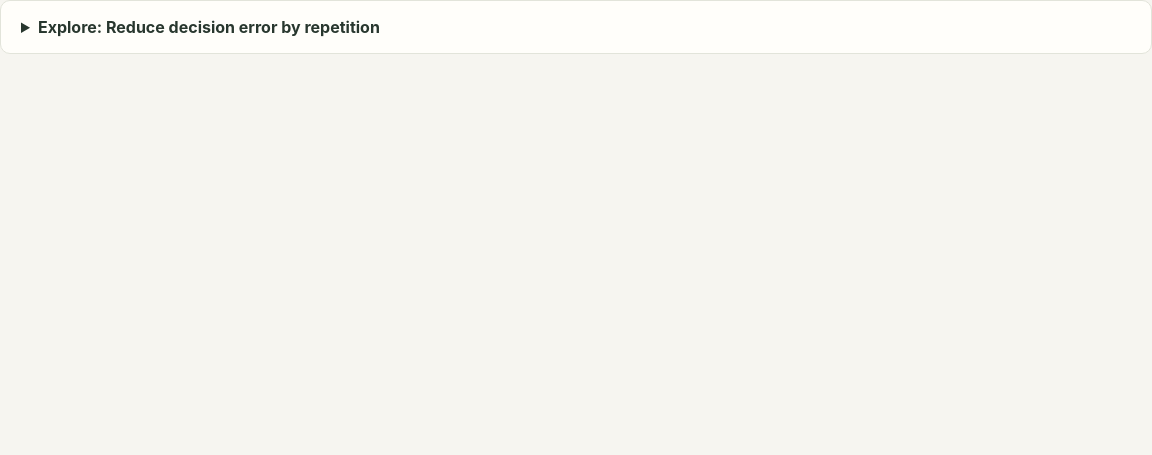
Test case: evaluates the independence-based majority and one-sided amplification guarantees
Later steps or results of the test are not shown.
Click the heading "Explore: Reduce decision error by repetition" at (209, 27), box [38,17,380,37]
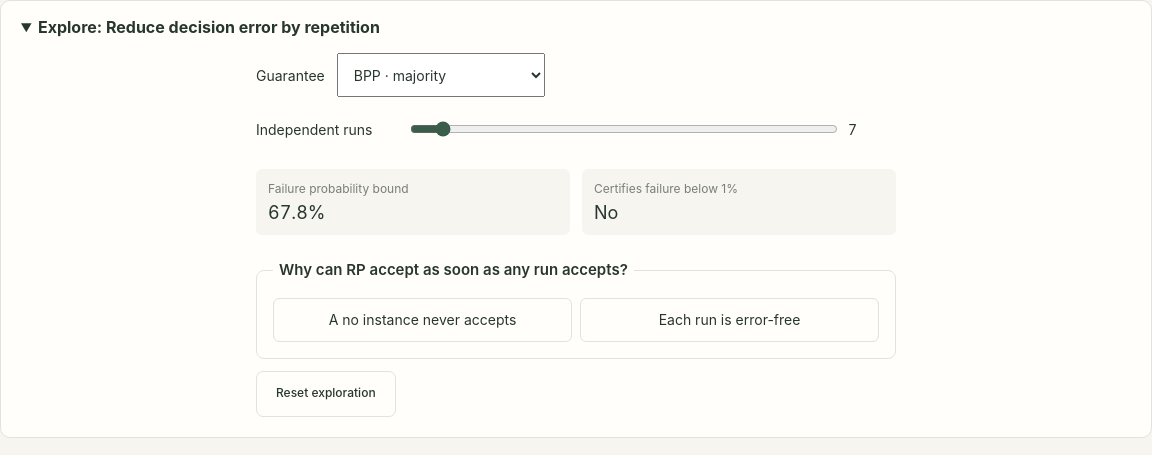
Set the slider labelled "Independent runs" to "83" at (756, 129), box [410,107,838,151]
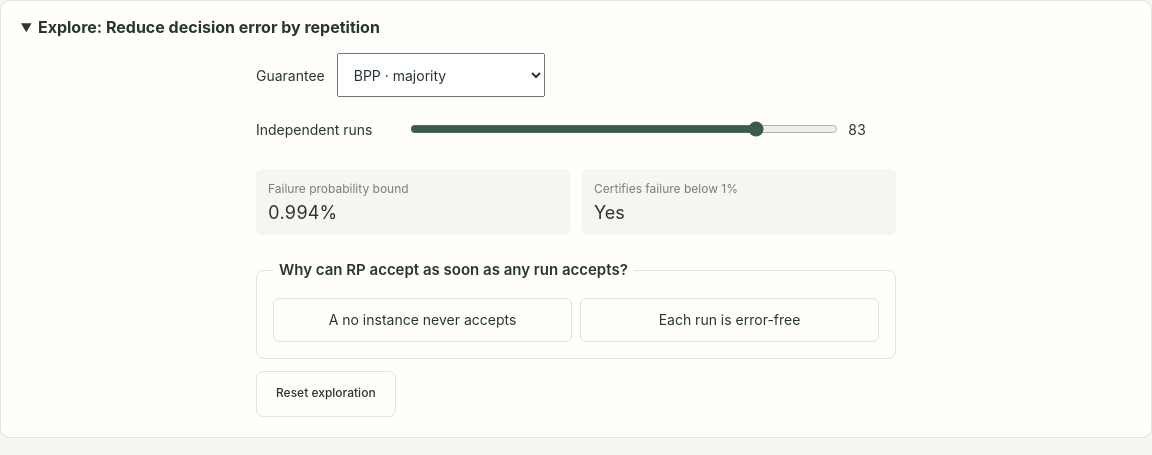
Result: the text "Yes" is shown at [594,202,625,223]
